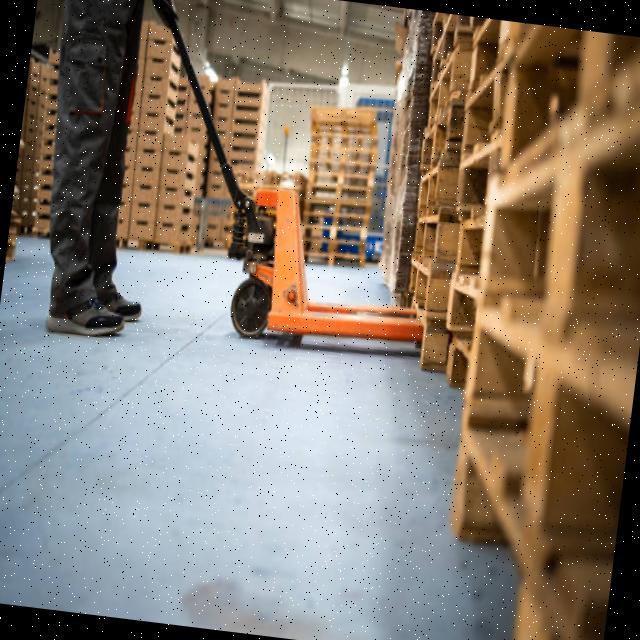Wooden-Pallets: (302, 121, 388, 166), (407, 208, 443, 280)
